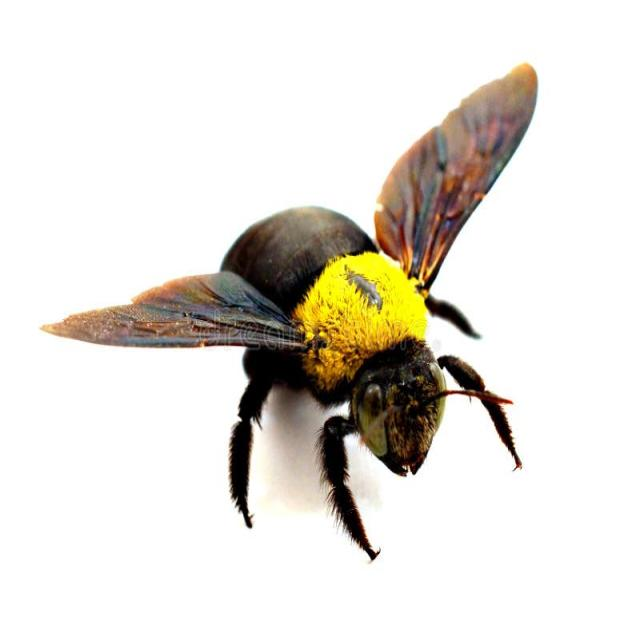Xylocopa: (34, 51, 554, 598)
